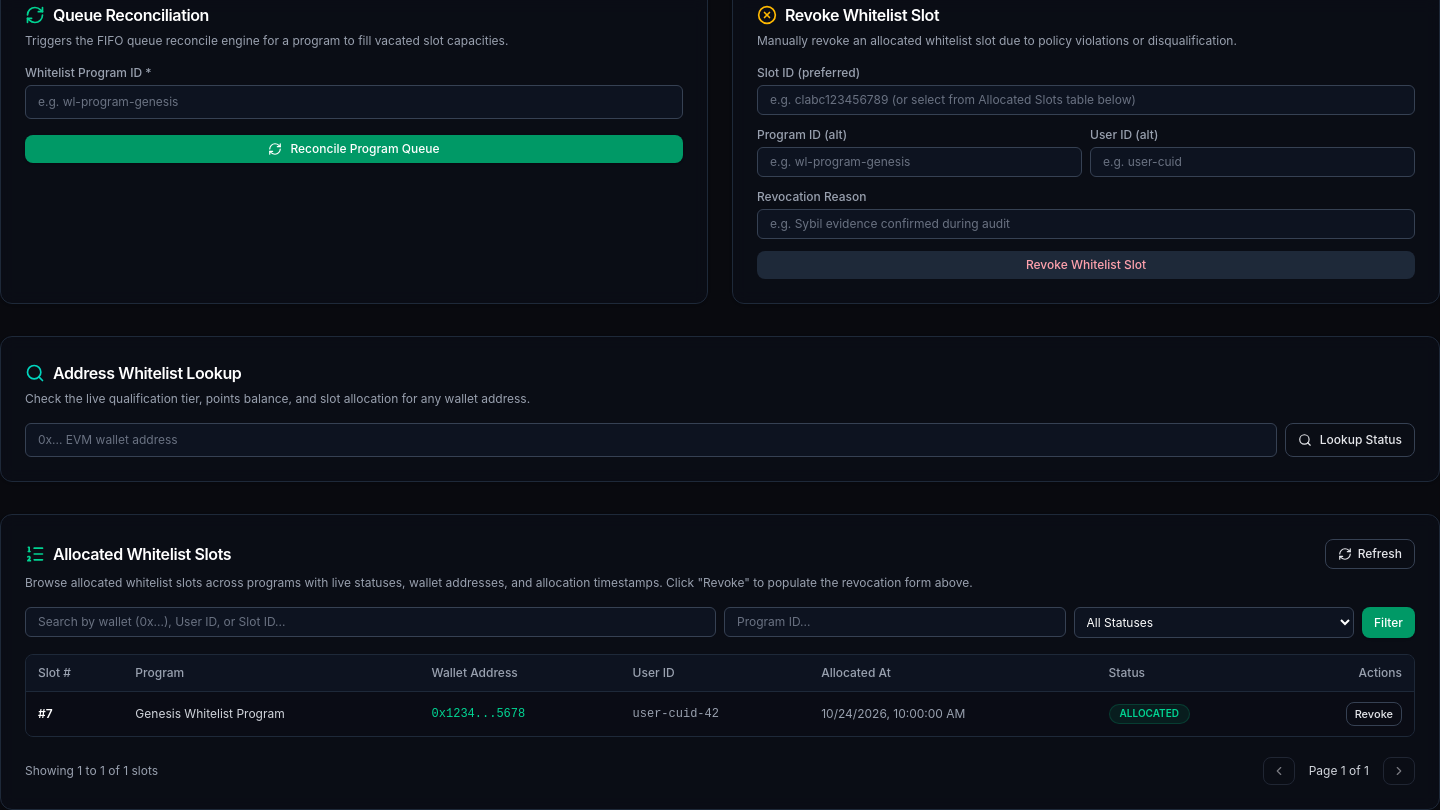
it: Admin Whitelist UI - Queue Reconciliation Notification › Allocated Whitelist Slots Registry › renders Allocated Whitelist Slots table and displays slot records with wallet and status
This screenshot has width=1440, height=810.
(page scrolled)
Expected: the heading "Allocated Whitelist Slots" is shown, x1=53 y1=542 x2=231 y2=566
Expected: the text "#7" is shown, x1=26 y1=692 x2=123 y2=736
# Clicking "Revoke" on an allocated slot auto-populates the Revocation form fields
Click the button "Revoke".
click(1374, 714)  # box x1=1346 y1=702 x2=1402 y2=726
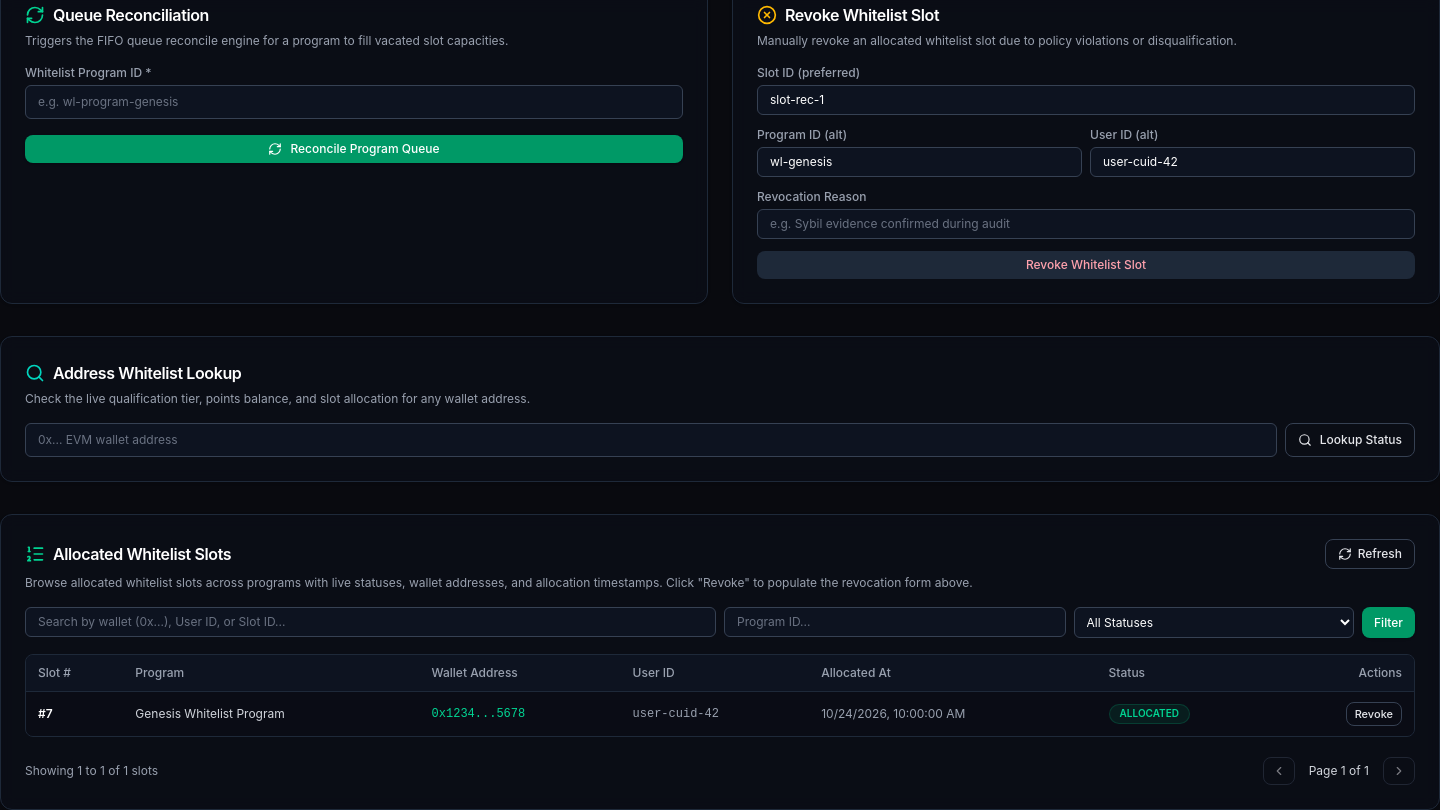
Expected: the field labelled "Slot ID (preferred)" holds "slot-rec-1", x1=757 y1=85 x2=1415 y2=115
Expected: the field labelled "Program ID (alt)" holds "wl-genesis", x1=757 y1=147 x2=1082 y2=177
Expected: the field labelled "User ID (alt)" holds "user-cuid-42", x1=1090 y1=147 x2=1415 y2=177
